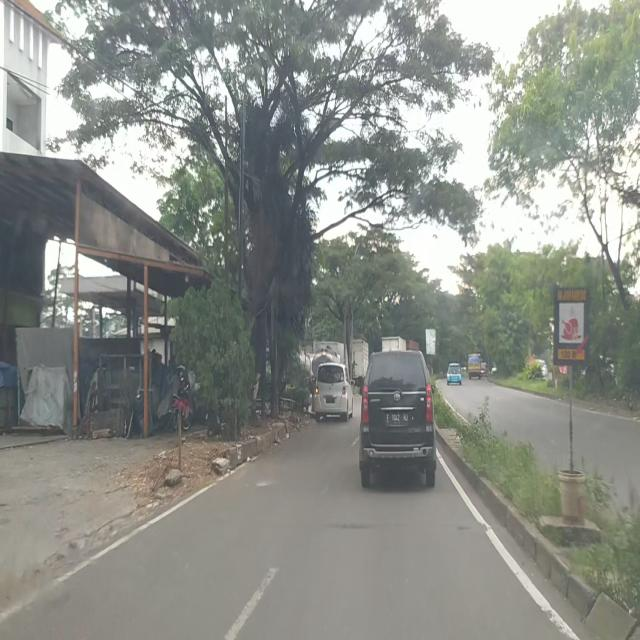Sewer Cover: (316, 522, 474, 533)
